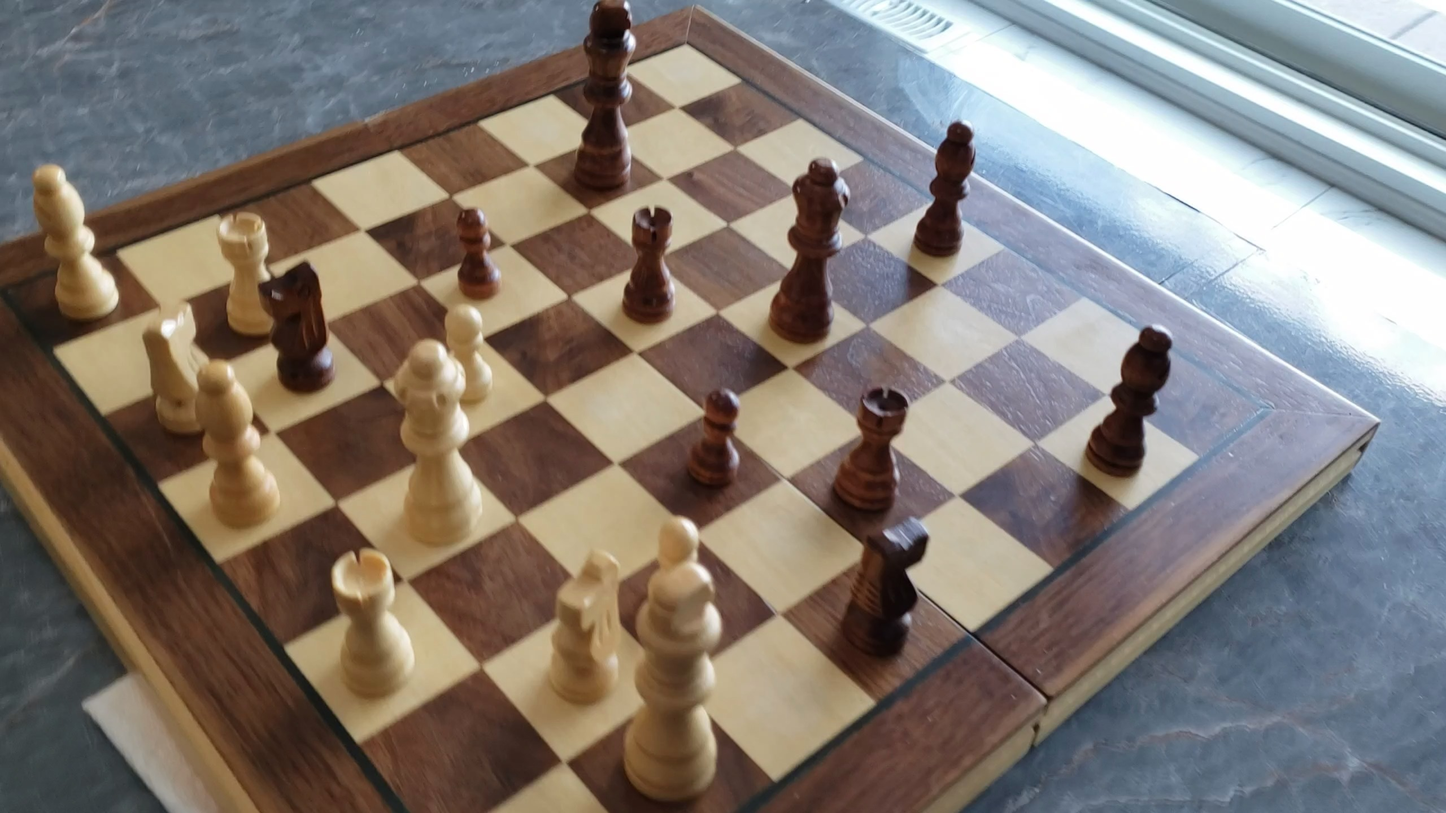black-bishop: (1066, 321, 1185, 486), (912, 115, 978, 257)
black-king: (570, 0, 640, 194)
black-knight: (835, 513, 933, 660), (257, 258, 337, 392)
black-pawn: (684, 383, 745, 491), (453, 202, 501, 301)
black-queen: (768, 153, 852, 345)
black-rook: (831, 384, 910, 513), (620, 202, 677, 324)
white-bishop: (188, 356, 285, 532), (29, 156, 123, 325)
white-king: (615, 542, 730, 810)
white-knight: (539, 545, 629, 711), (137, 299, 211, 440)
white-pawn: (438, 300, 499, 409)
white-queen: (386, 335, 490, 550)
white-rook: (325, 545, 420, 703), (212, 206, 279, 342)
